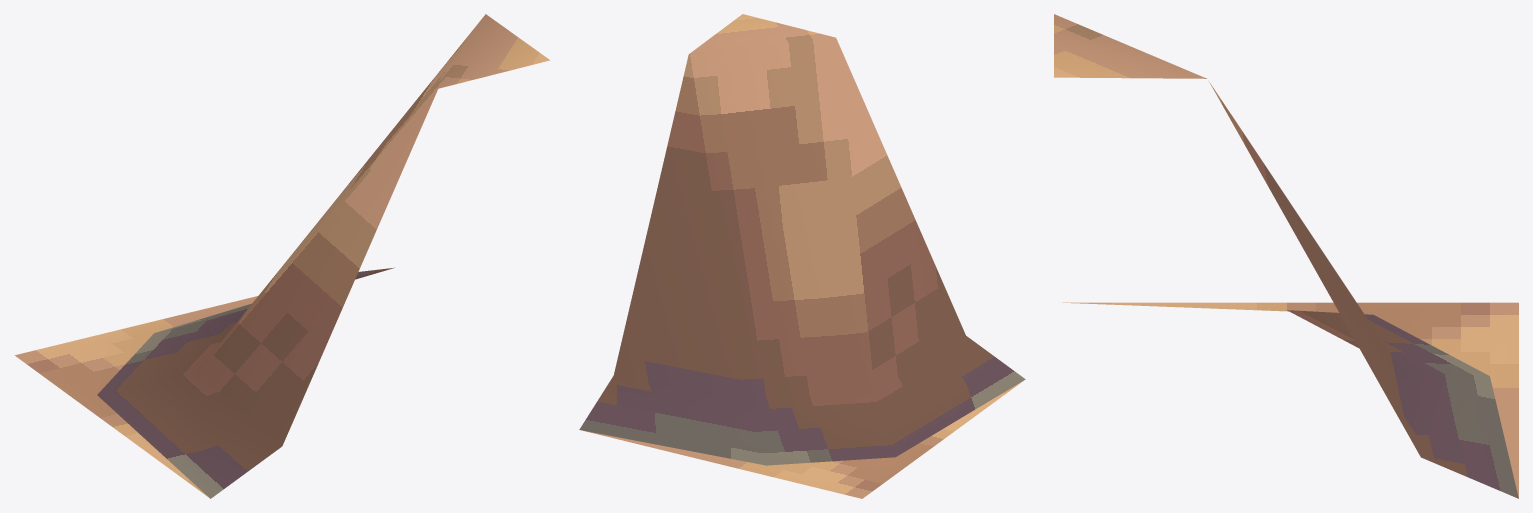
3 views of the same model, side by side, from view 1: azimuth 30°, elevation 25°; view 2: azimuth 150°, elevation 25°; view 3: azimuth 270°, elevation 25° (orthographic). The views are drawn at different scales.
Bounding box in the file's own units: 1 × 1 × 1.
Materials: 2 (2 with a texture image).
